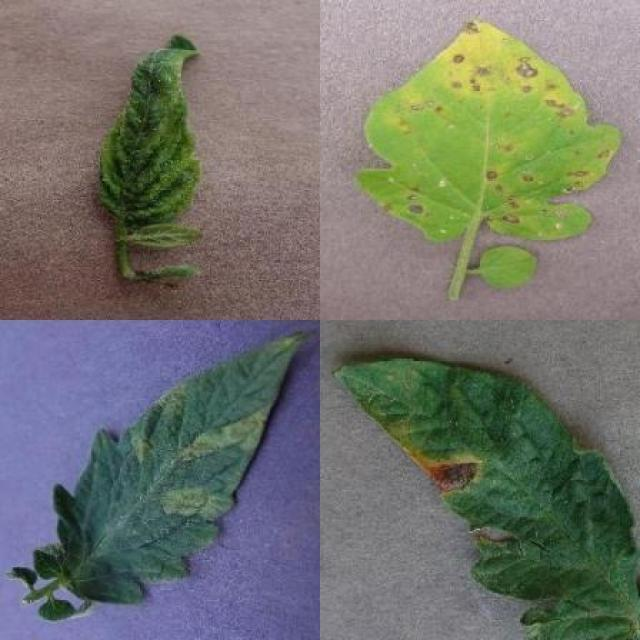Early Blight: (331, 353, 640, 640)
Leaf Mold: (32, 330, 305, 607)
Septoria: (357, 18, 623, 242)
Yellow Leaf Curl Virus: (96, 34, 200, 224)
